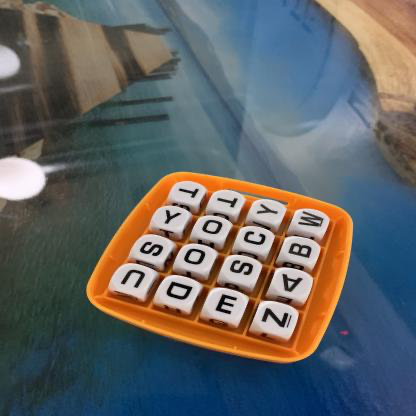a: (273, 269, 313, 299)
b: (283, 238, 320, 264)
c: (238, 227, 275, 253)
d: (159, 277, 200, 308)
e: (207, 291, 247, 321)
o: (178, 247, 215, 272), (197, 216, 231, 240)
s: (223, 256, 263, 285), (134, 235, 175, 263)
t: (172, 181, 206, 204), (212, 191, 244, 212)
u: (113, 264, 156, 295)
w: (295, 211, 331, 233)
y: (154, 207, 191, 231), (252, 201, 286, 224)
z: (257, 304, 300, 336)
